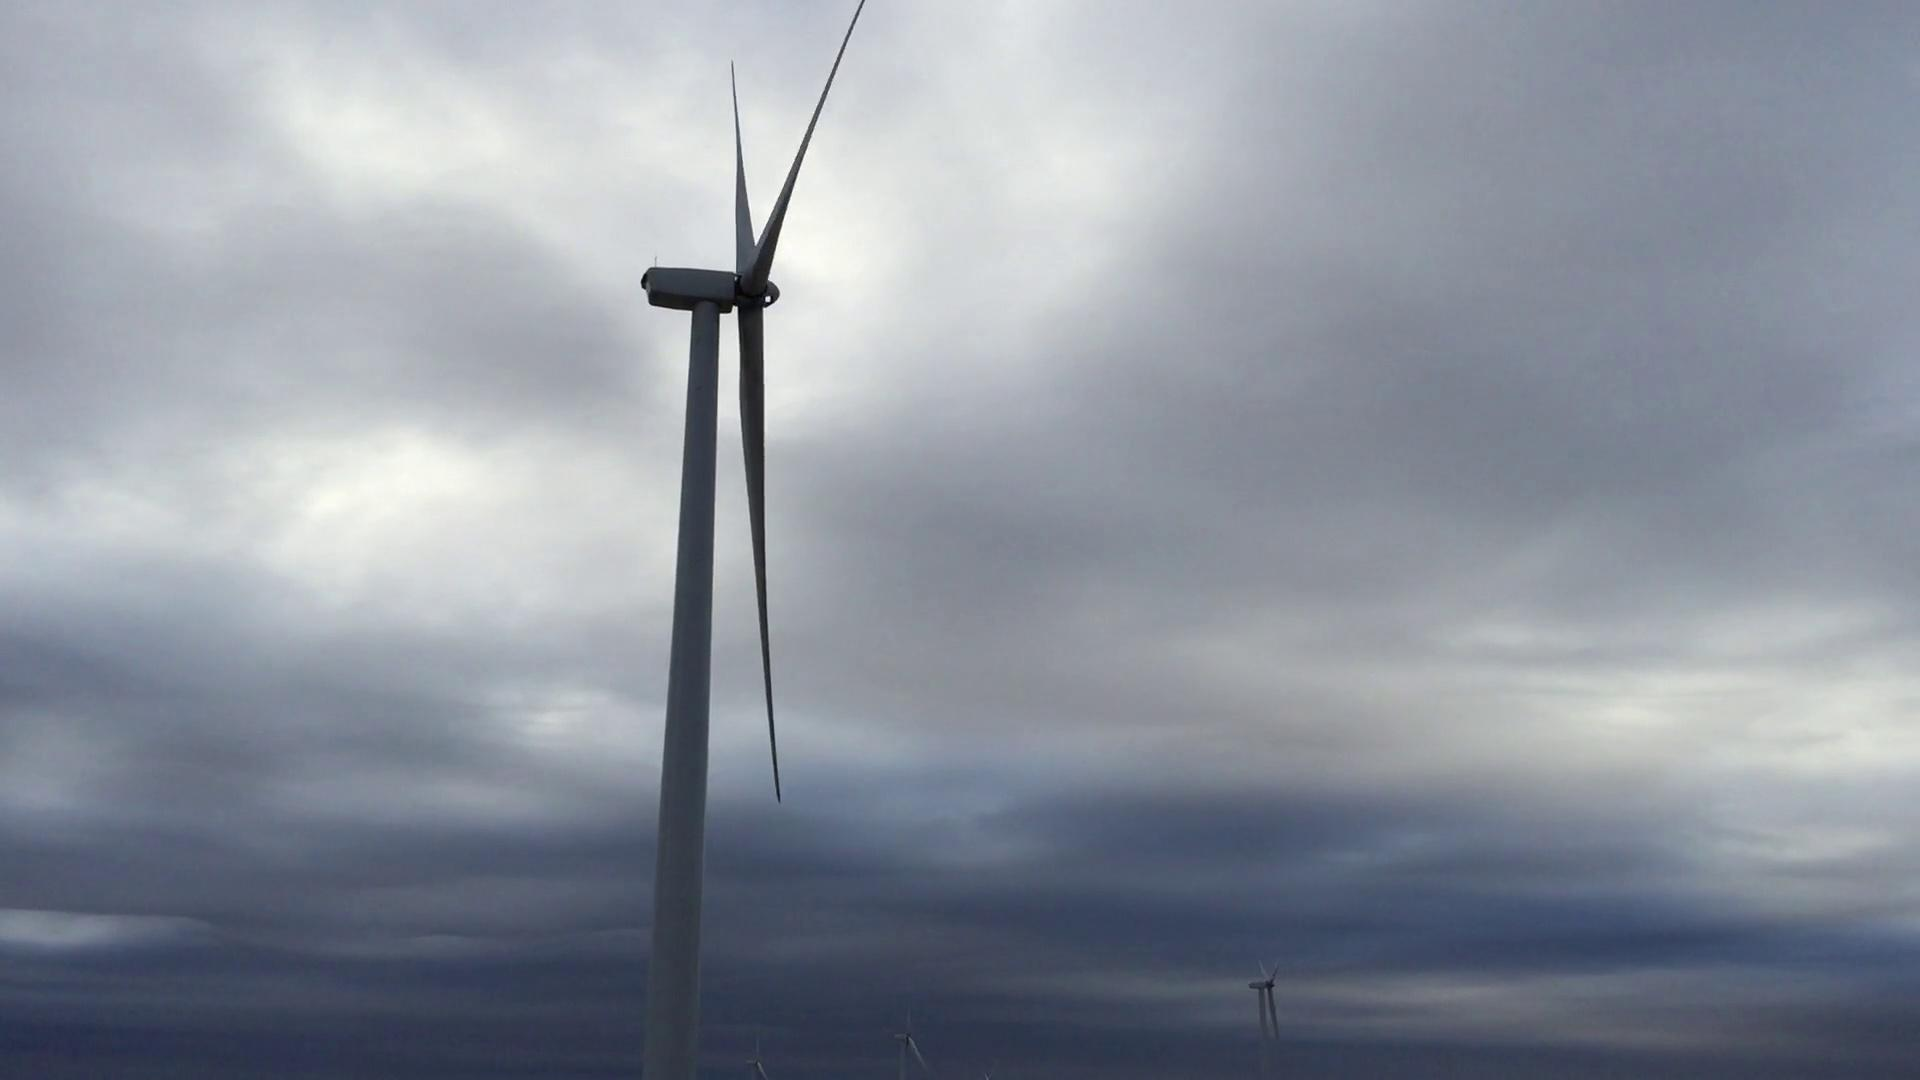turbine: (617, 5, 891, 1080), (1245, 969, 1309, 1080), (868, 1005, 945, 1080), (733, 1033, 812, 1080)
